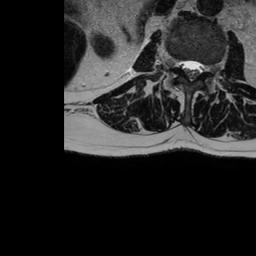CCS_normal: (188, 51, 195, 87)
LFS_normal: (203, 53, 212, 79)
LLS_normal: (195, 52, 203, 82)
RFS_normal: (170, 48, 179, 76)
RLS_normal: (179, 50, 188, 80)
